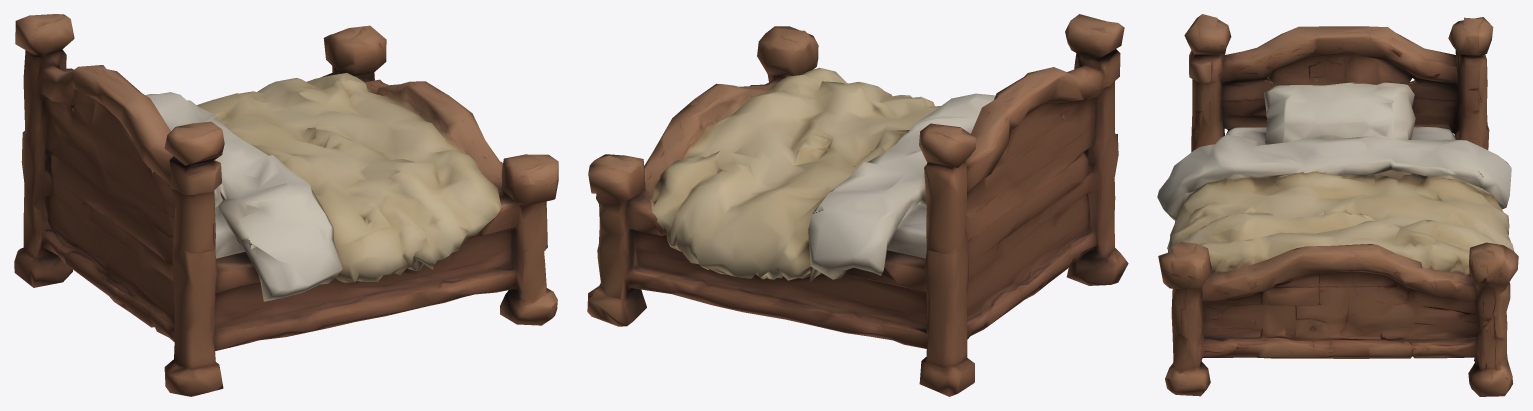
File: bed.glb
3 renders of one model, left to right at view 1: azimuth 30°, elevation 25°; view 2: azimuth 150°, elevation 25°; view 3: azimuth 270°, elevation 25°, orthographic. The views are drawn at different scales.
Parts seen in each view (by area): view 1: tripo_node_04eeca8b-e196-4e4f-a9fc-27636091d025; view 2: tripo_node_04eeca8b-e196-4e4f-a9fc-27636091d025; view 3: tripo_node_04eeca8b-e196-4e4f-a9fc-27636091d025.
Part boxes in pixels (x1,y1,x2,y2): tripo_node_04eeca8b-e196-4e4f-a9fc-27636091d025: (14, 14, 558, 396); tripo_node_04eeca8b-e196-4e4f-a9fc-27636091d025: (587, 14, 1128, 396); tripo_node_04eeca8b-e196-4e4f-a9fc-27636091d025: (1157, 14, 1518, 396).
Size of the model in its own units: 1 by 0.6698 by 0.9616.
Materials: 1 (1 with a texture image).
